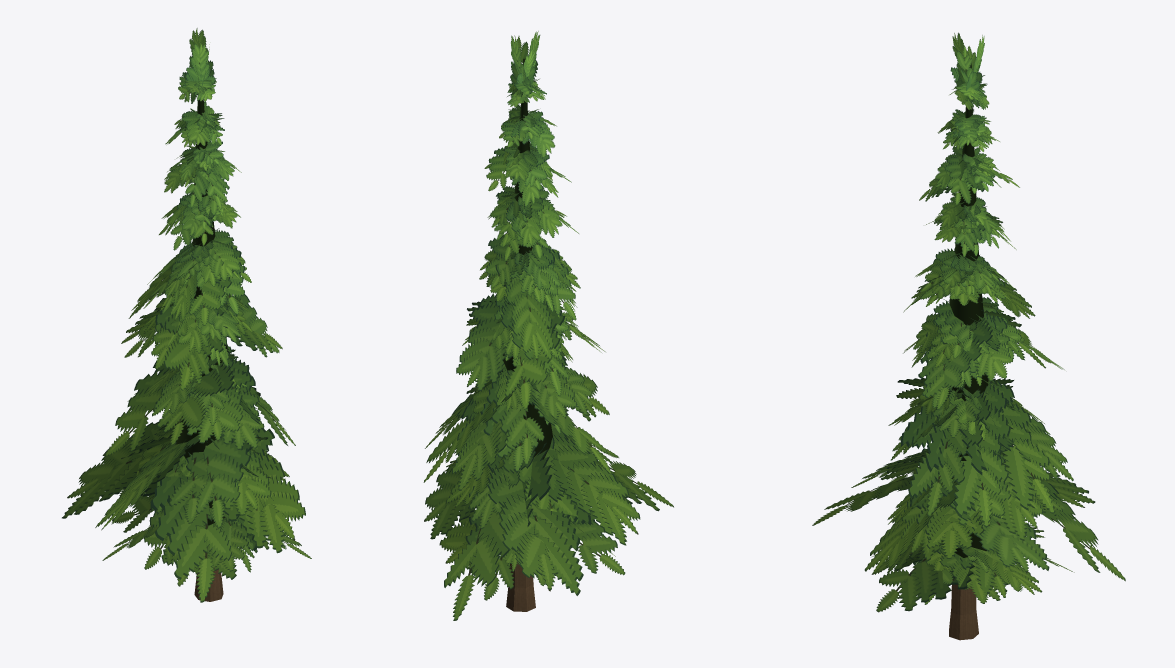
The model's file is fir4_d.glb.
3 views of the same model, side by side, from view 1: azimuth 30°, elevation 25°; view 2: azimuth 150°, elevation 25°; view 3: azimuth 270°, elevation 25° (orthographic). The views are drawn at different scales.
Parts seen in each view (by area): view 1: fir4_d; view 2: fir4_d; view 3: fir4_d.
Part boxes in pixels (x1,y1,x2,y2): fir4_d: (62,28,311,602); fir4_d: (423,31,673,620); fir4_d: (812,32,1125,640).
Size of the model in its own units: 3.66 by 7.64 by 4.63.
2 materials, 2 textured.
